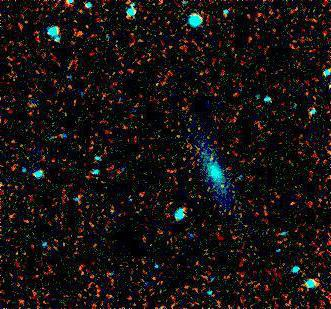star: (200, 153, 230, 183)
